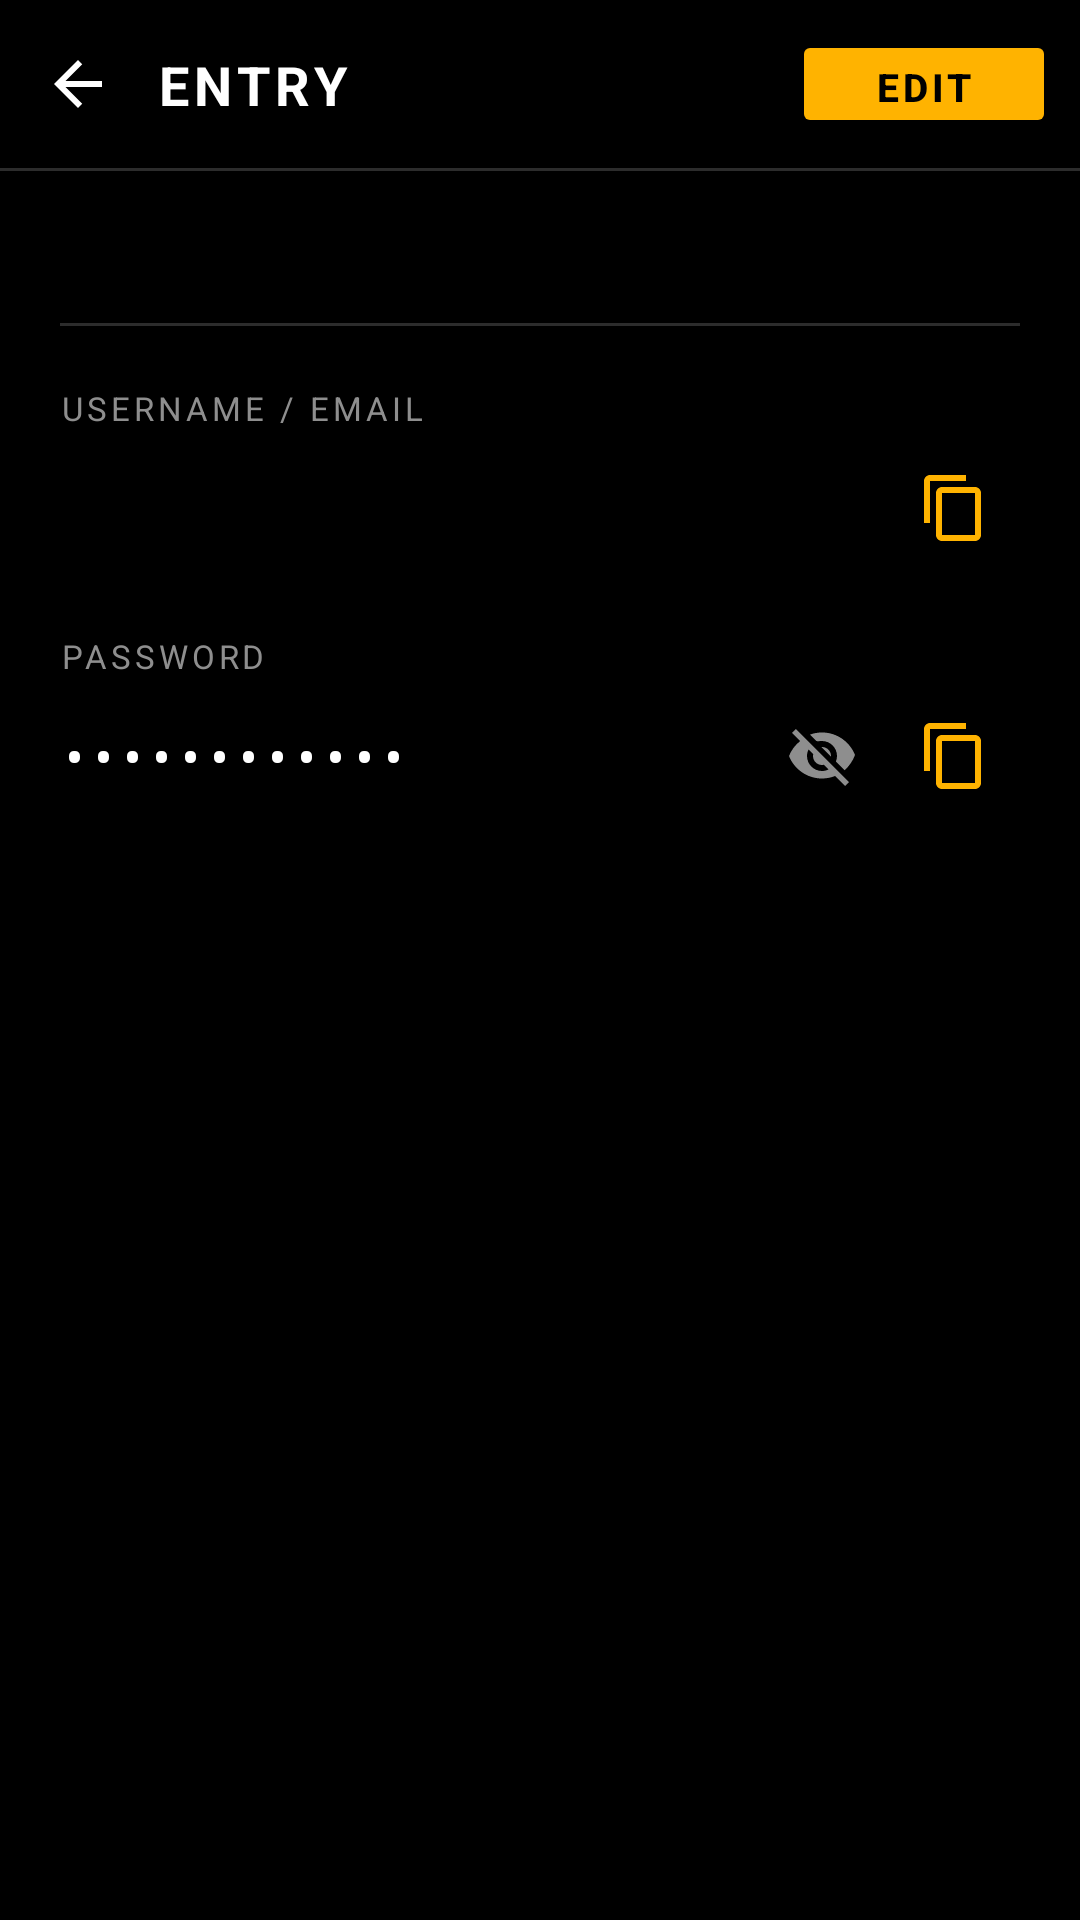

Icons on this 1080px×1920px Android screen, each with the point to tap as (x=x, y=y):
Copy username: (x=952, y=508)
Go back: (x=78, y=84)
